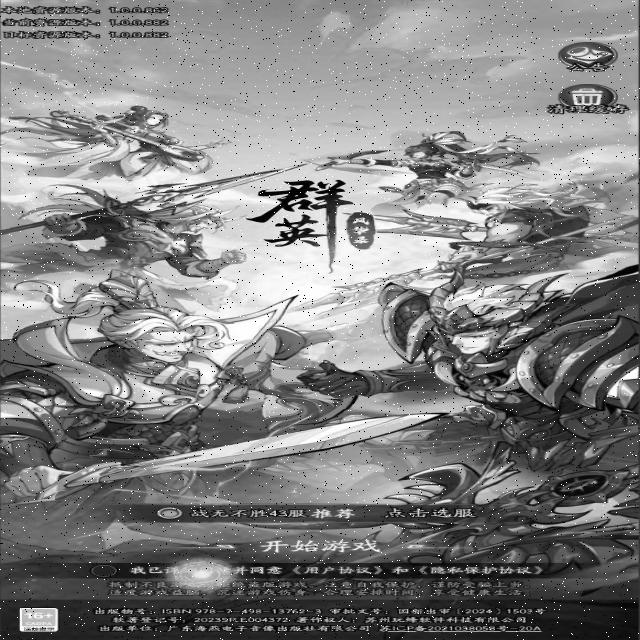operation-enter: (254, 538, 391, 554)
system-cleanUpCache: (542, 101, 631, 117)
system-notices: (555, 40, 621, 73)
system-protocol-box: (127, 564, 283, 576)
